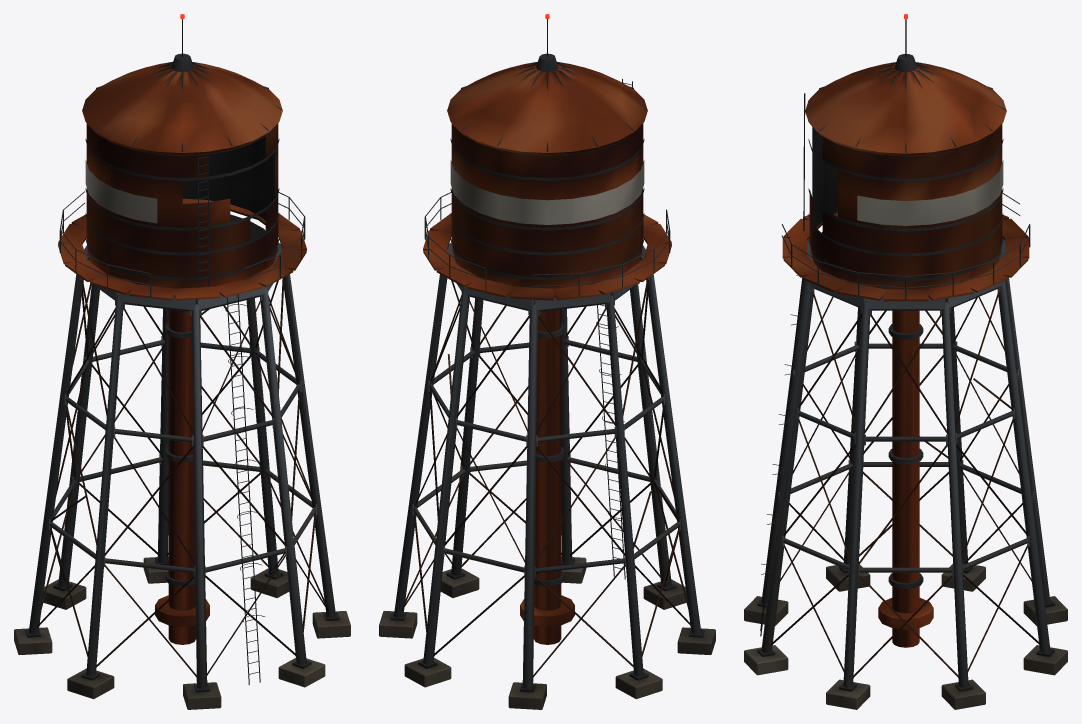
Rendered from water_tower.glb.
The picture shows the model from 3 angles, left to right: view 1: azimuth 30°, elevation 25°; view 2: azimuth 150°, elevation 25°; view 3: azimuth 270°, elevation 25°; orthographic projection.
Visible parts, largest first — view 1: rust, steel_beam, rebar, metal_dark, concrete_dark, rubber, paint; view 2: rust, steel_beam, rebar, metal_dark, concrete_dark, paint; view 3: rust, steel_beam, metal_dark, rebar, concrete_dark, paint, rubber.
Part boxes in pixels (bbox=[...]): rust: bbox=[58, 62, 306, 644]; steel_beam: bbox=[28, 242, 335, 688]; rebar: bbox=[37, 277, 328, 677]; metal_dark: bbox=[25, 19, 339, 692]; concrete_dark: bbox=[14, 556, 350, 709]; rubber: bbox=[182, 136, 274, 240]; paint: bbox=[85, 160, 157, 223]; rust: bbox=[423, 62, 671, 644]; steel_beam: bbox=[394, 242, 701, 688]; rebar: bbox=[401, 278, 692, 677]; metal_dark: bbox=[390, 19, 704, 692]; concrete_dark: bbox=[379, 556, 715, 709]; paint: bbox=[450, 160, 644, 224]; rust: bbox=[782, 62, 1029, 647]; steel_beam: bbox=[761, 238, 1050, 687]; metal_dark: bbox=[757, 19, 1054, 691]; rebar: bbox=[771, 292, 1040, 677]; concrete_dark: bbox=[744, 563, 1067, 709]; paint: bbox=[857, 160, 1003, 225]; rubber: bbox=[812, 127, 837, 233].
Size of what is drawn, in the model's own units: 14.12 by 30.19 by 14.12.
